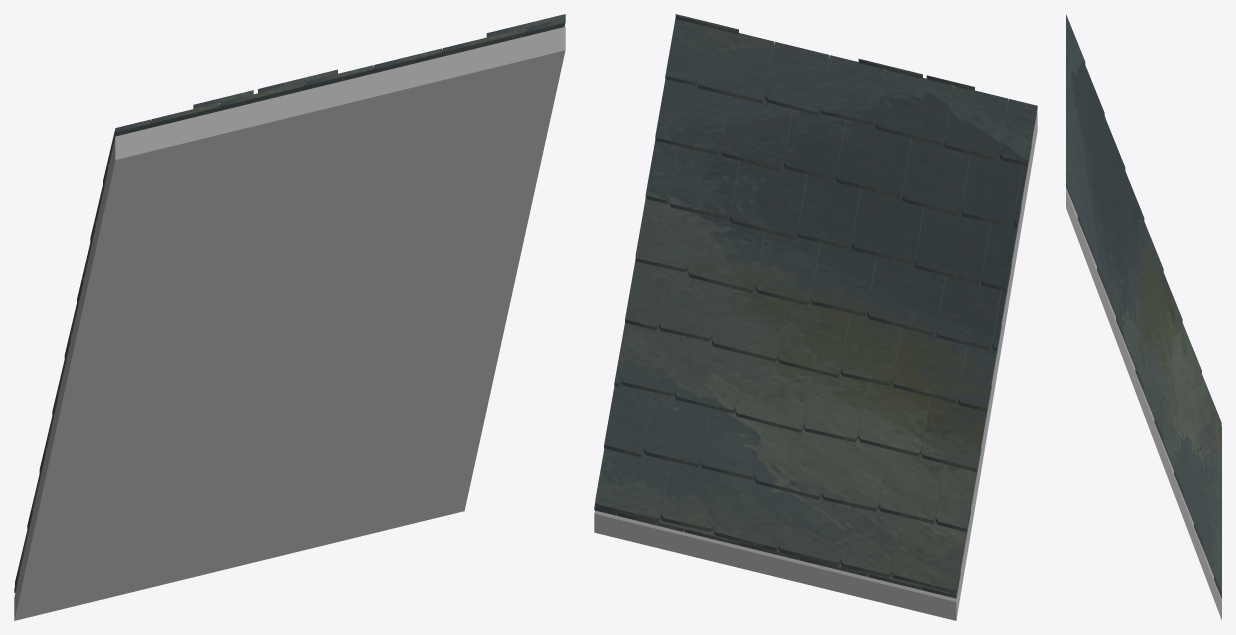
Rendered from CM_SlateRoofKit01_Panel2x2p4_71p1.fbx.
3 renders of one model, left to right at view 1: azimuth 30°, elevation 25°; view 2: azimuth 150°, elevation 25°; view 3: azimuth 270°, elevation 25°, orthographic. The views are drawn at different scales.
Parts seen in each view (by area): view 1: CM_SlateRoofKit01_Panel2x2p4_71p1_Underlay, CM_SlateRoofKit01_Panel2x2p4_71p1_Slate; view 2: CM_SlateRoofKit01_Panel2x2p4_71p1_Slate, CM_SlateRoofKit01_Panel2x2p4_71p1_Underlay; view 3: CM_SlateRoofKit01_Panel2x2p4_71p1_Slate, CM_SlateRoofKit01_Panel2x2p4_71p1_Underlay.
Part boxes in pixels (left/top/right/bottom): CM_SlateRoofKit01_Panel2x2p4_71p1_Underlay: left=14, top=26, right=565, bottom=620; CM_SlateRoofKit01_Panel2x2p4_71p1_Slate: left=14, top=14, right=565, bottom=592; CM_SlateRoofKit01_Panel2x2p4_71p1_Slate: left=594, top=14, right=1037, bottom=598; CM_SlateRoofKit01_Panel2x2p4_71p1_Underlay: left=594, top=112, right=1037, bottom=620; CM_SlateRoofKit01_Panel2x2p4_71p1_Slate: left=1066, top=14, right=1221, bottom=598; CM_SlateRoofKit01_Panel2x2p4_71p1_Underlay: left=1066, top=187, right=1221, bottom=620.
Size of the model in its own units: 2 by 2.42 by 0.7774.
